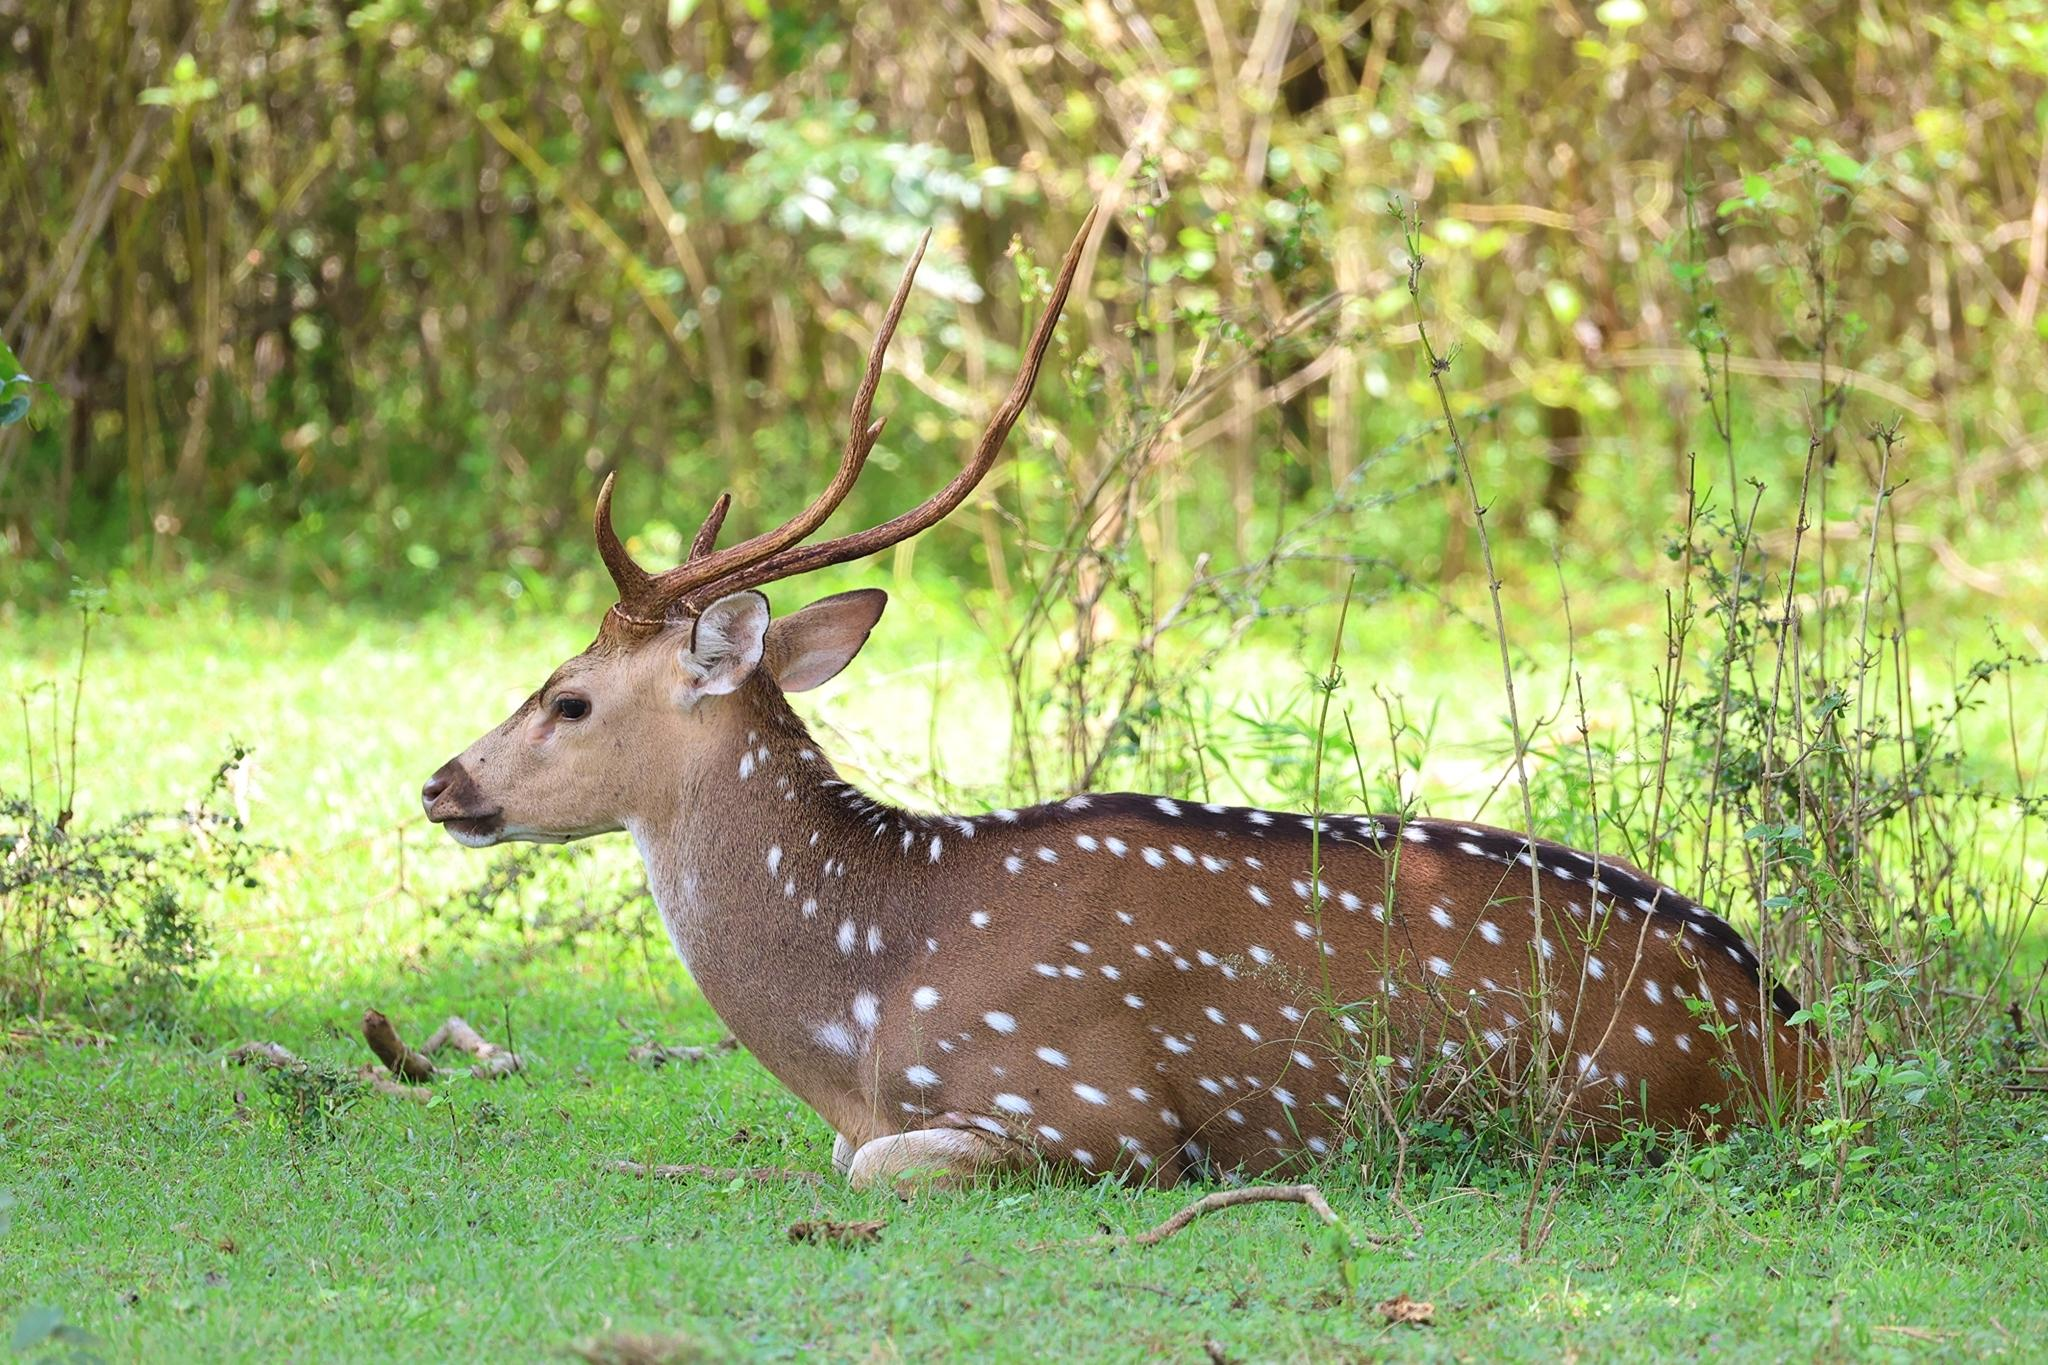Deer: (422, 218, 1804, 1187)
